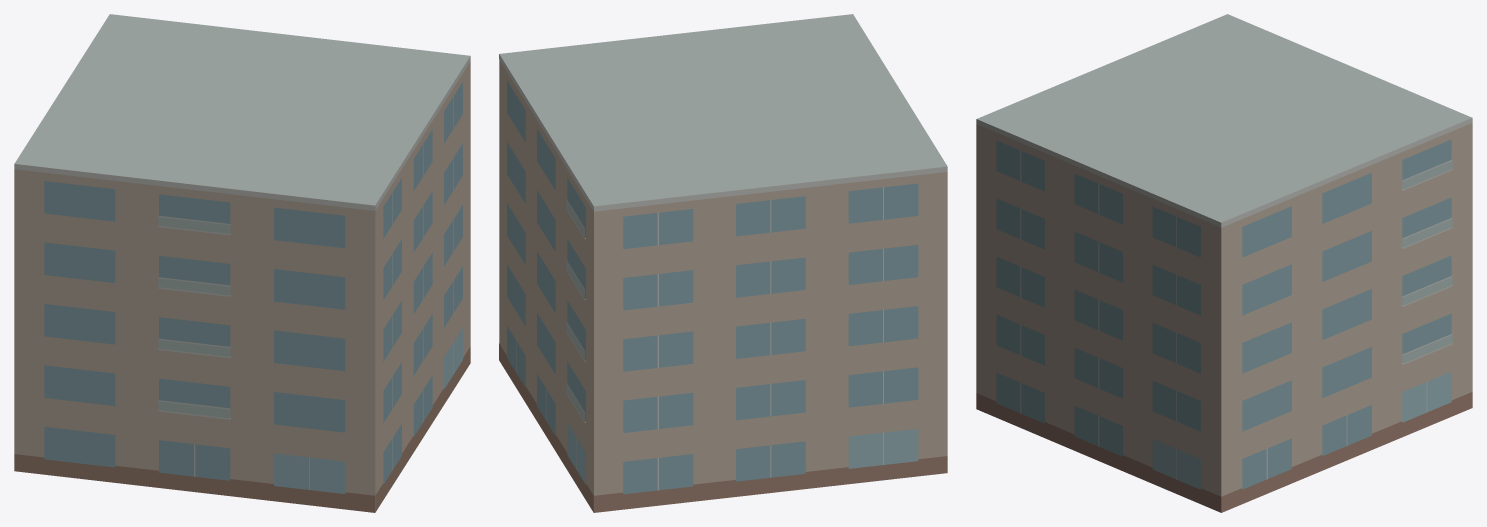
The model's file is survey-upis-32645443.glb.
3 views of the same model, side by side, from view 1: azimuth 30°, elevation 25°; view 2: azimuth 150°, elevation 25°; view 3: azimuth 270°, elevation 25° (orthographic). The views are drawn at different scales.
Parts seen in each view (by area): view 1: survey-upis-32645443.tmp; view 2: survey-upis-32645443.tmp; view 3: survey-upis-32645443.tmp.
Boxes of the visible parts, <box> form: survey-upis-32645443.tmp: <box>14,14,470,512</box>; survey-upis-32645443.tmp: <box>499,14,947,512</box>; survey-upis-32645443.tmp: <box>976,14,1472,512</box>.
Size of the model in its own units: 21.84 by 14.15 by 21.93.
